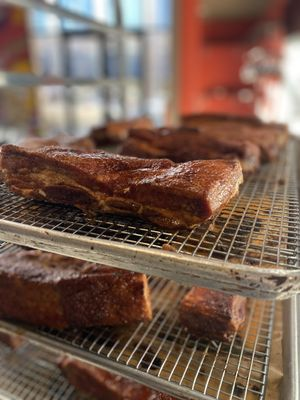sushi: (0, 244, 153, 329)
